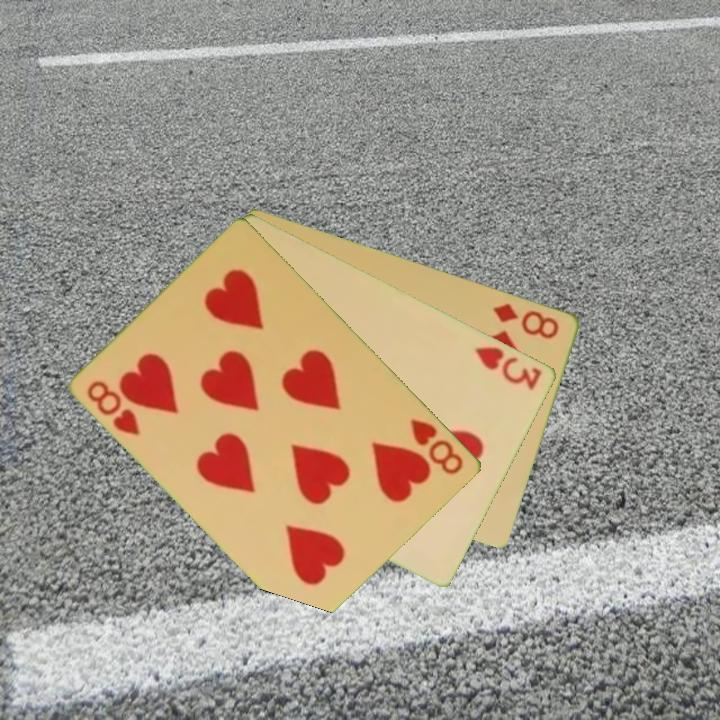3h: (471, 342, 545, 393)
8d: (490, 299, 563, 342)
8h: (407, 415, 467, 478), (84, 377, 144, 438)
